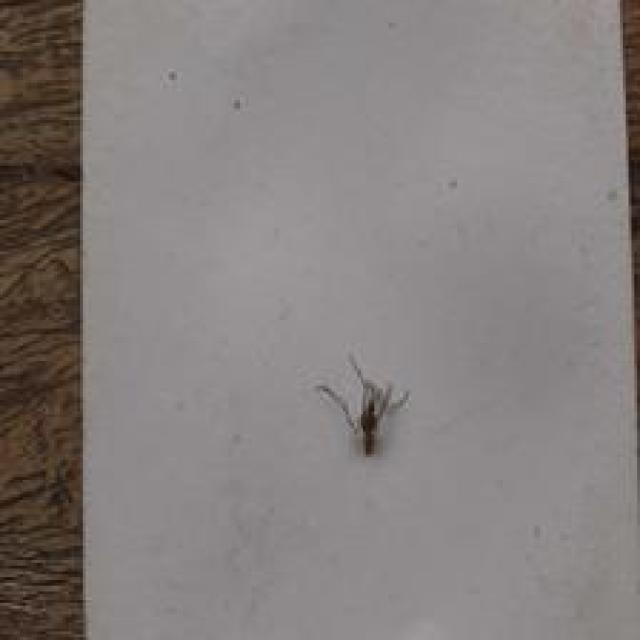Culex: (314, 352, 412, 457)
